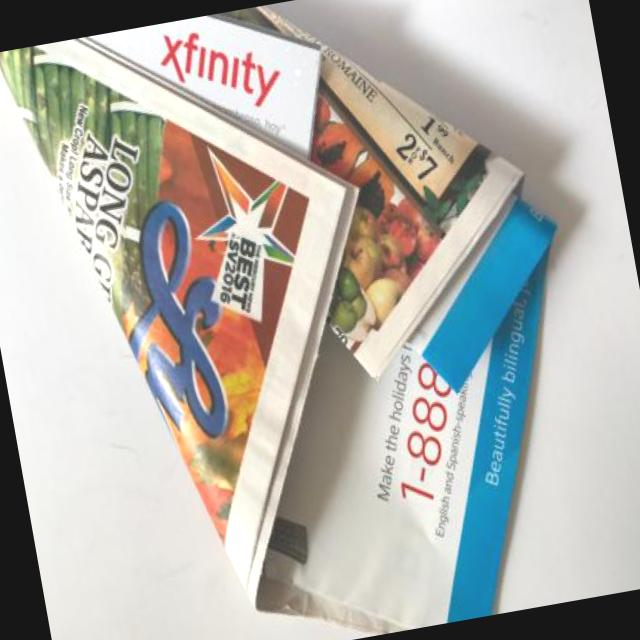paper: (5, 0, 586, 640)
